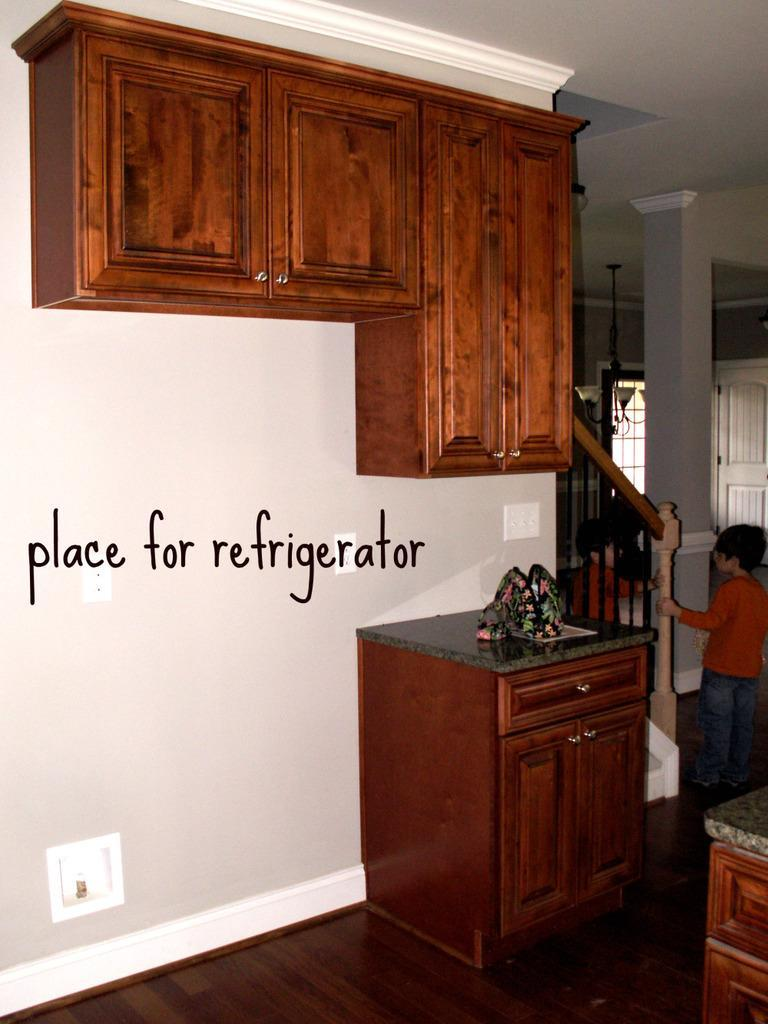door: (720, 372, 766, 524)
